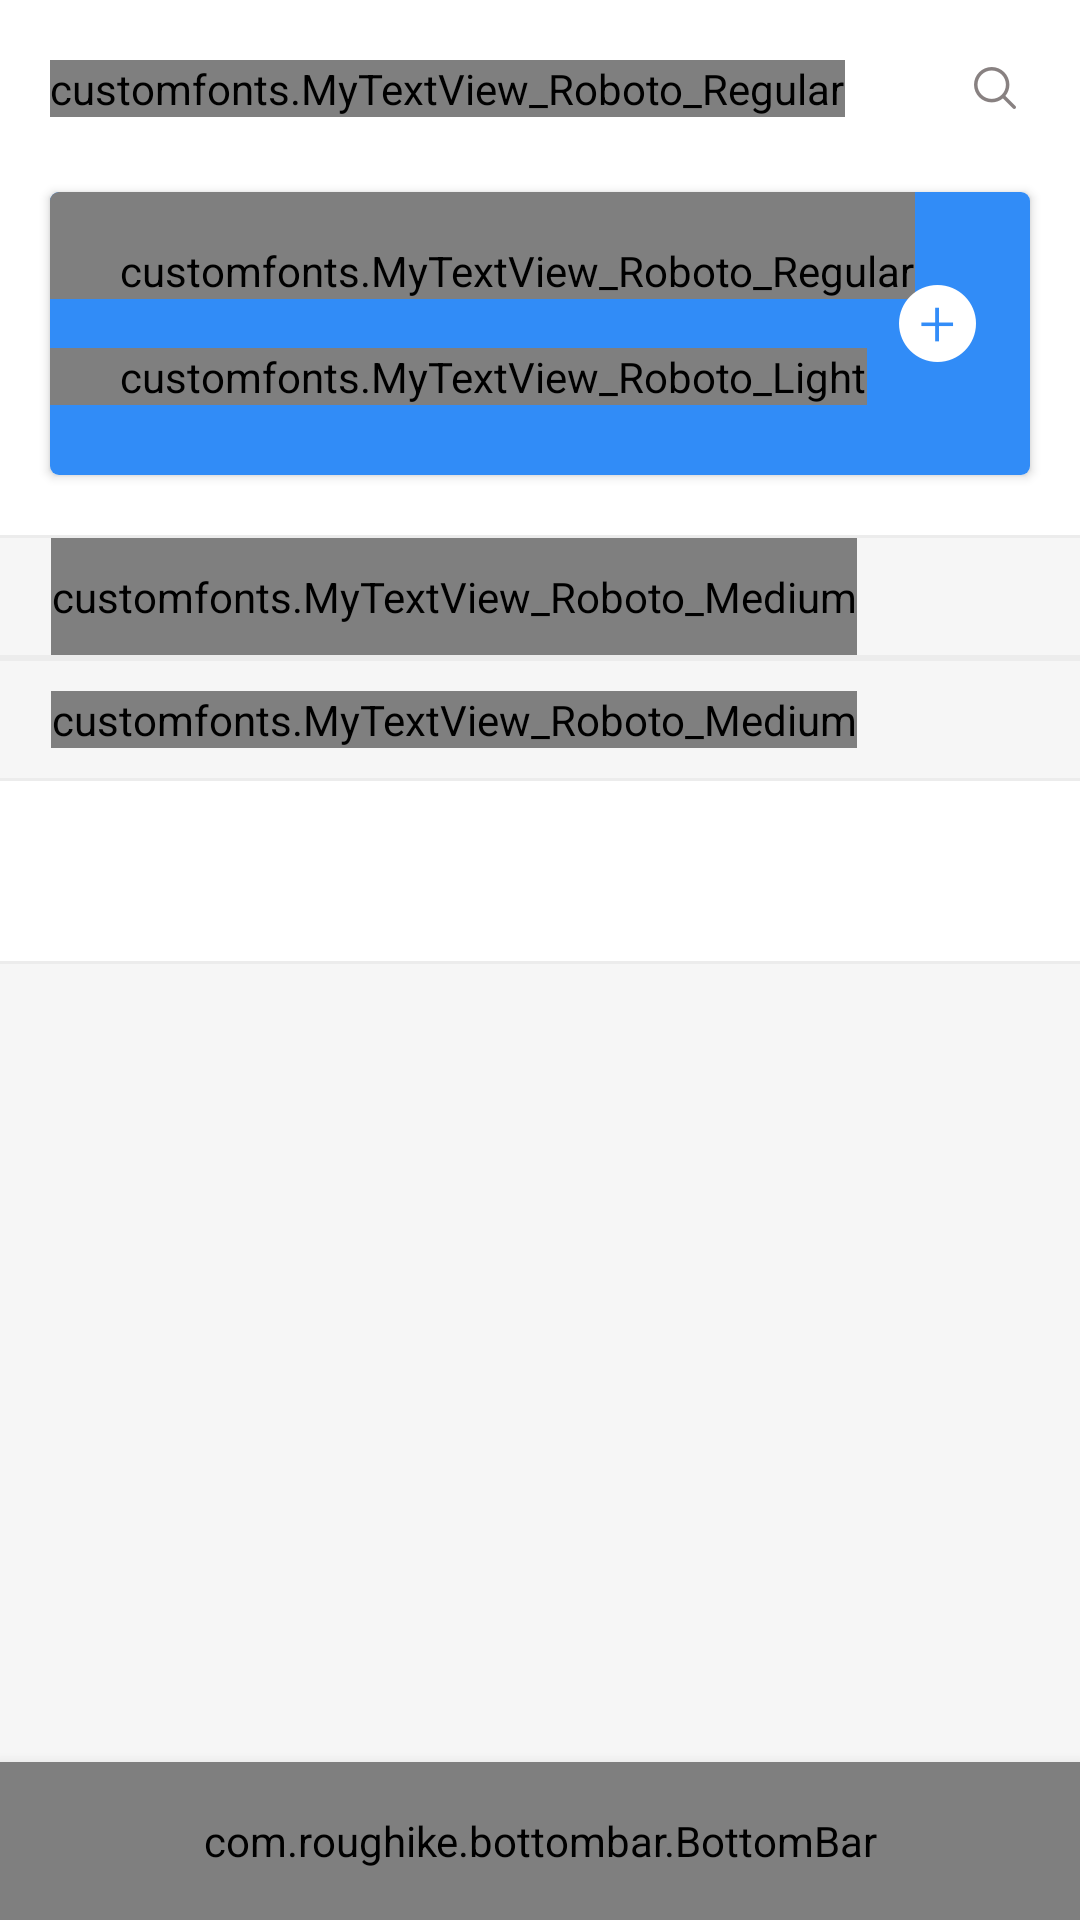

Icons on this 1080*1920 Android screen, each with the point to tap as [x,y]:
plus: [937,323]
search: [995,88]
